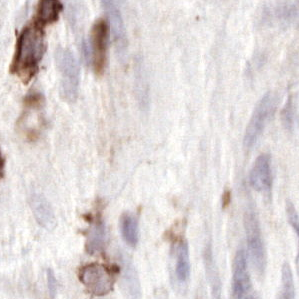Lymphocyte: (35, 1, 64, 27)
